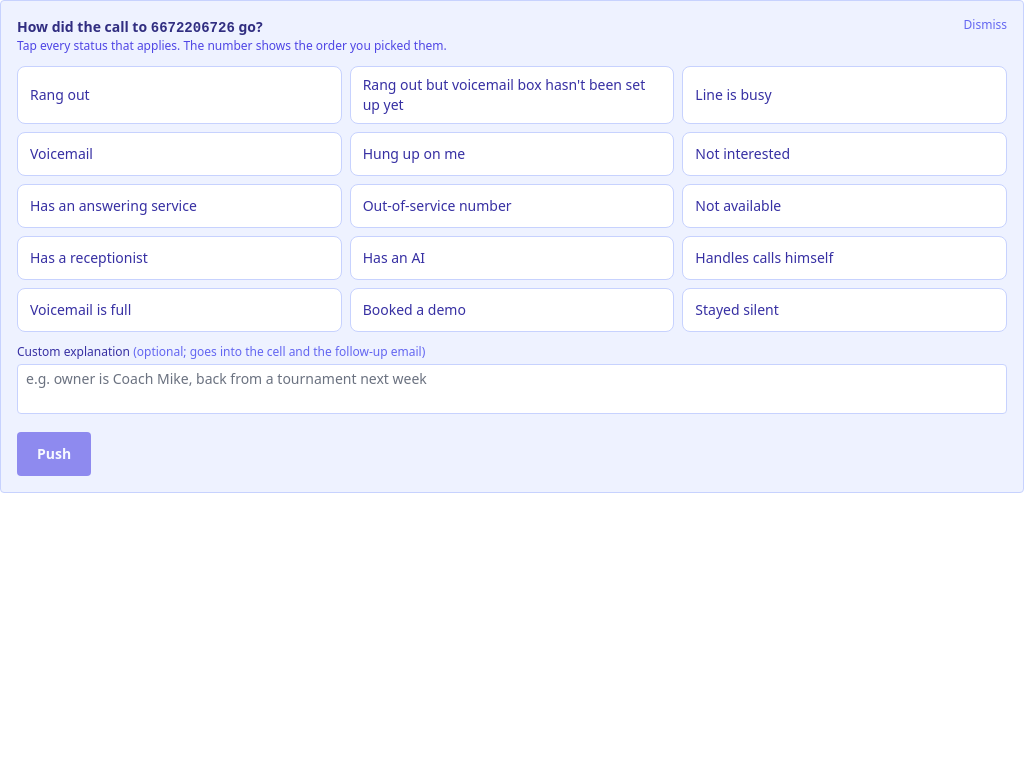
Test case: post-call status panel › shows the personalised sentences and why there were not three
The width and height of the screenshot is (1024, 768).
Click the button "Voicemail".
click(62, 154)  # box [17,132,342,176]
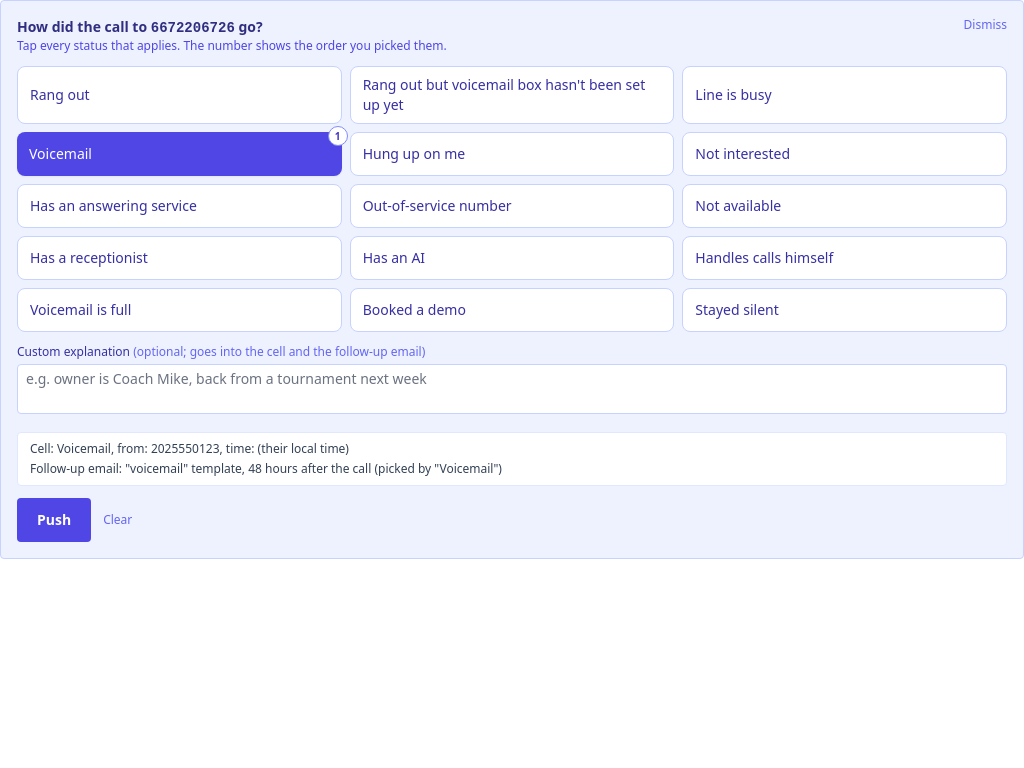
Click the button "Push".
click(54, 520)  # box [17,498,91,542]
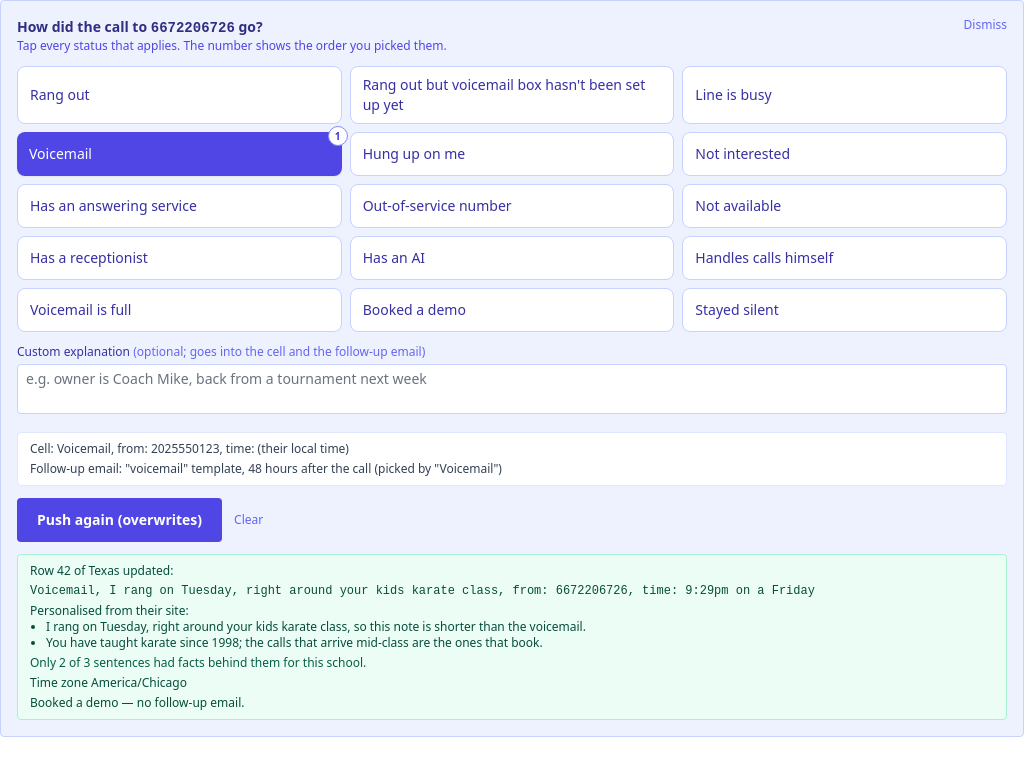
Now the text "Personalised from their site:" is shown, box [30,602,189,619]
Now the text "Only 2 of 3 sentences had facts behind them for this school." is shown, box [30,654,366,671]
